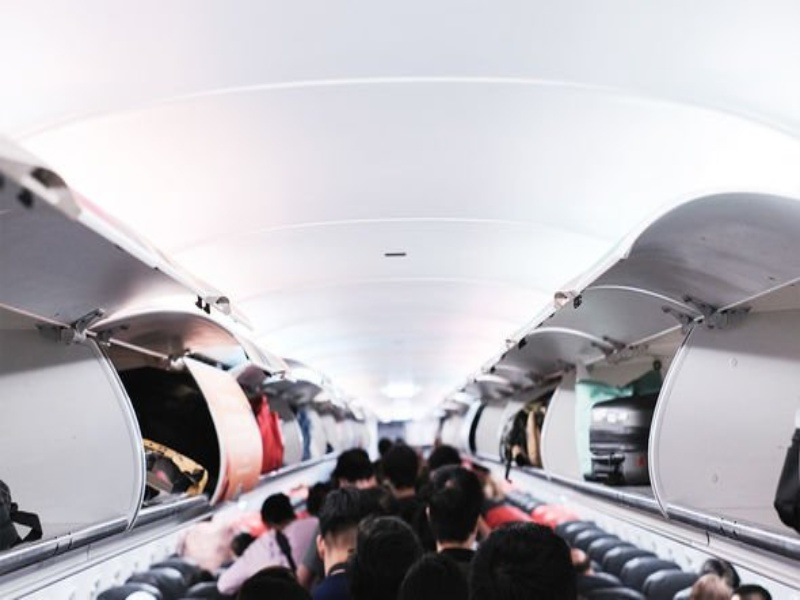close_bin: (193, 359, 261, 493)
open_bin: (659, 178, 798, 508), (9, 181, 125, 528), (548, 239, 647, 484), (109, 346, 212, 510), (240, 380, 304, 475), (502, 358, 556, 464), (479, 402, 518, 458), (292, 403, 325, 465), (317, 413, 340, 456), (336, 423, 353, 452)
